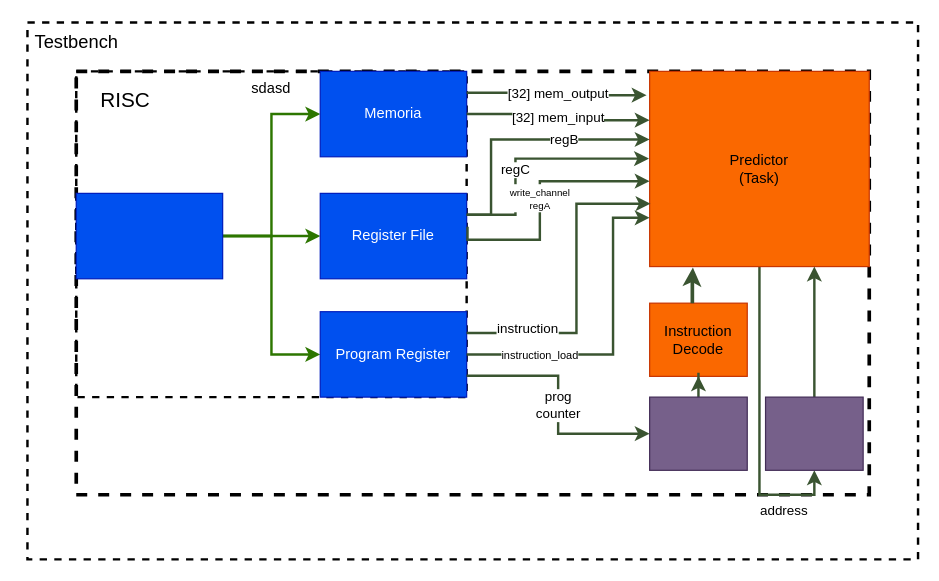
Image size: 939x581. Some labels were removed from this diagram. Each missing label, with the centre of its shape:
"Memory Duplicate" goes at (813,433).
"Program Memory Duplicate" goes at (697,433).
"RISC_ctrl" goes at (149,235).
